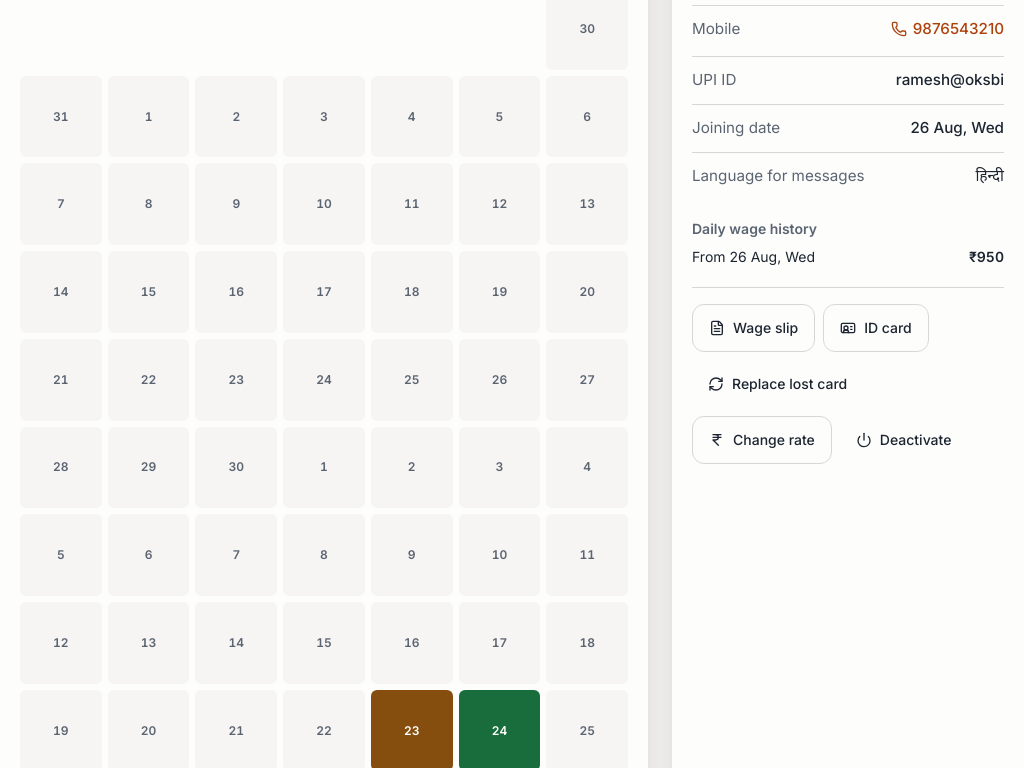
Test: WorkerProfilePage › prints the ID card and replaces a lost one after confirming
(page scrolled)
Click the button "Replace lost card" at [778, 384], box [692,360,863,408]
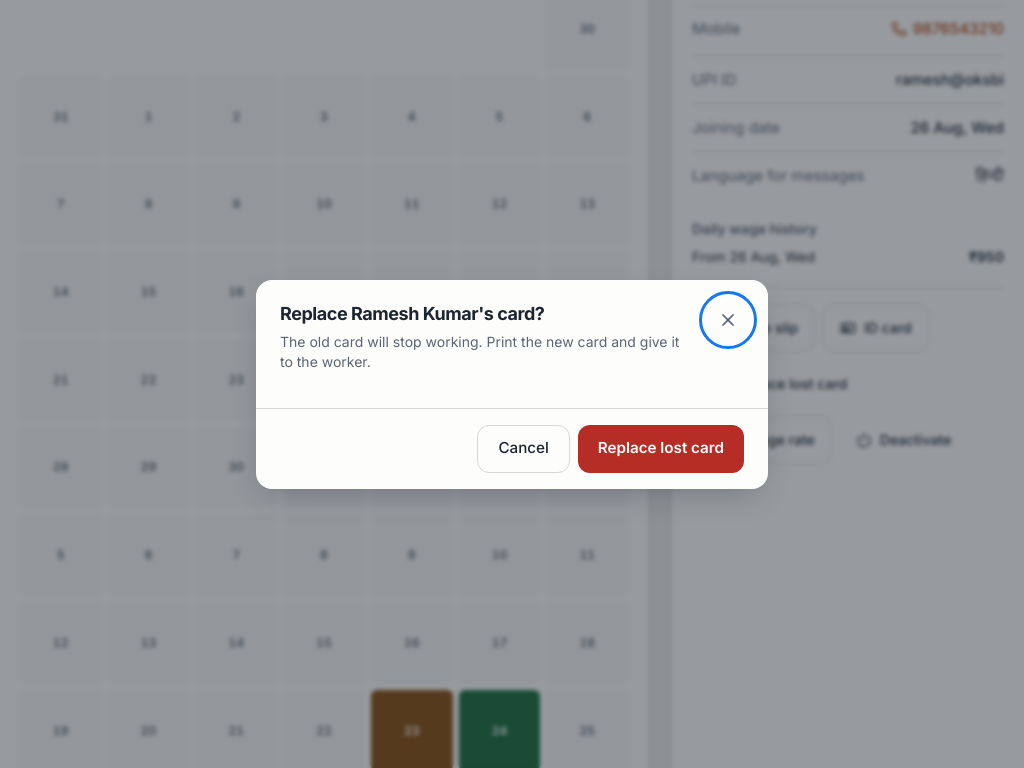
Click the button "Replace lost card" at [661, 448], box [578,424,744,472]
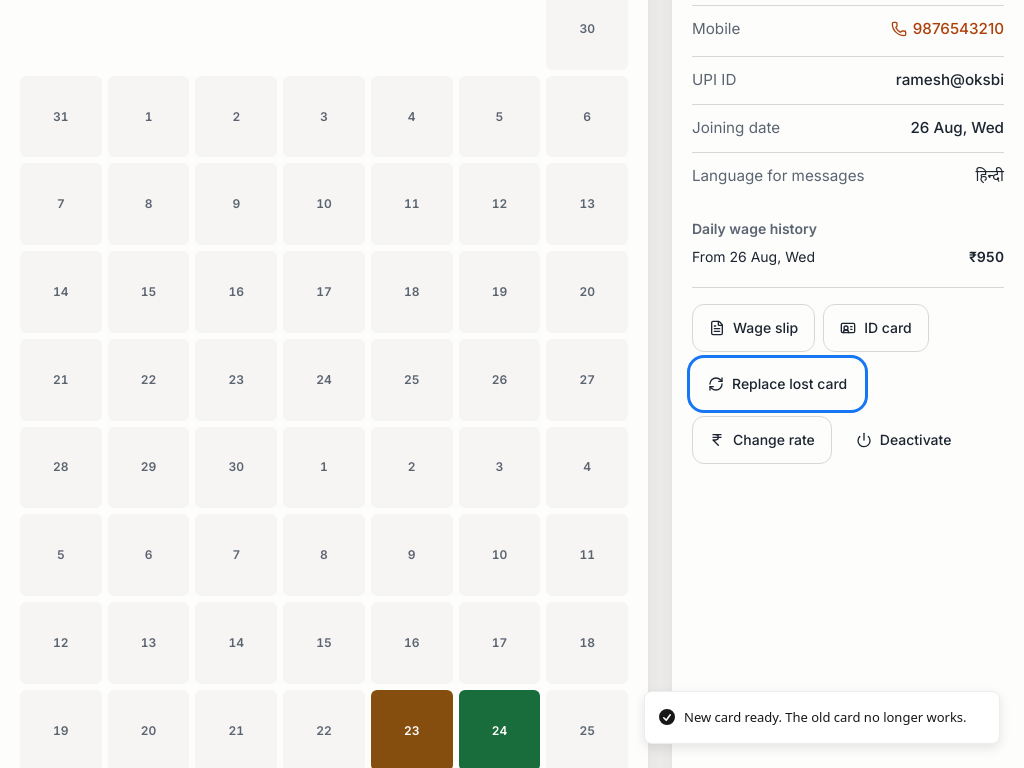
Expected: the text "New card ready. The old card no longer works." is shown, [684,708,967,727]
